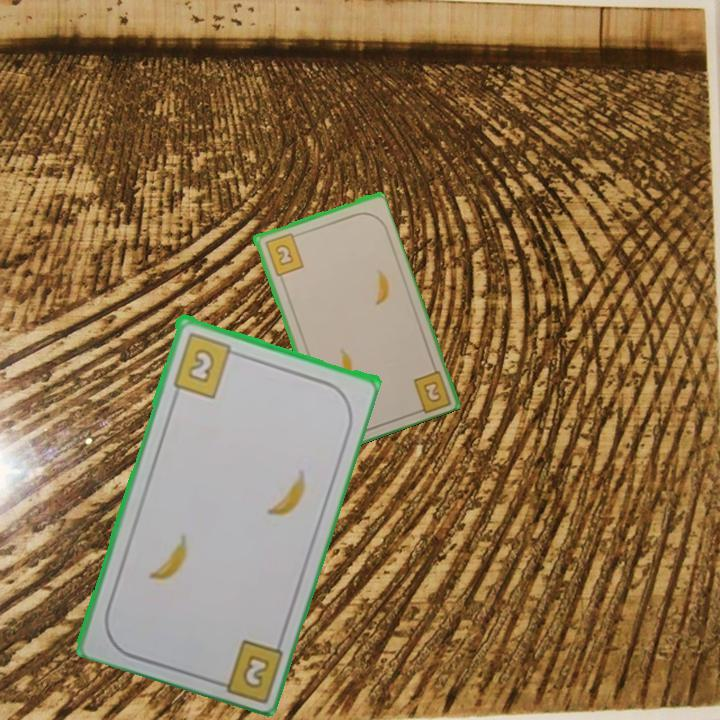2b: (169, 328, 243, 400), (208, 635, 286, 702), (261, 229, 306, 278), (419, 377, 444, 405)
